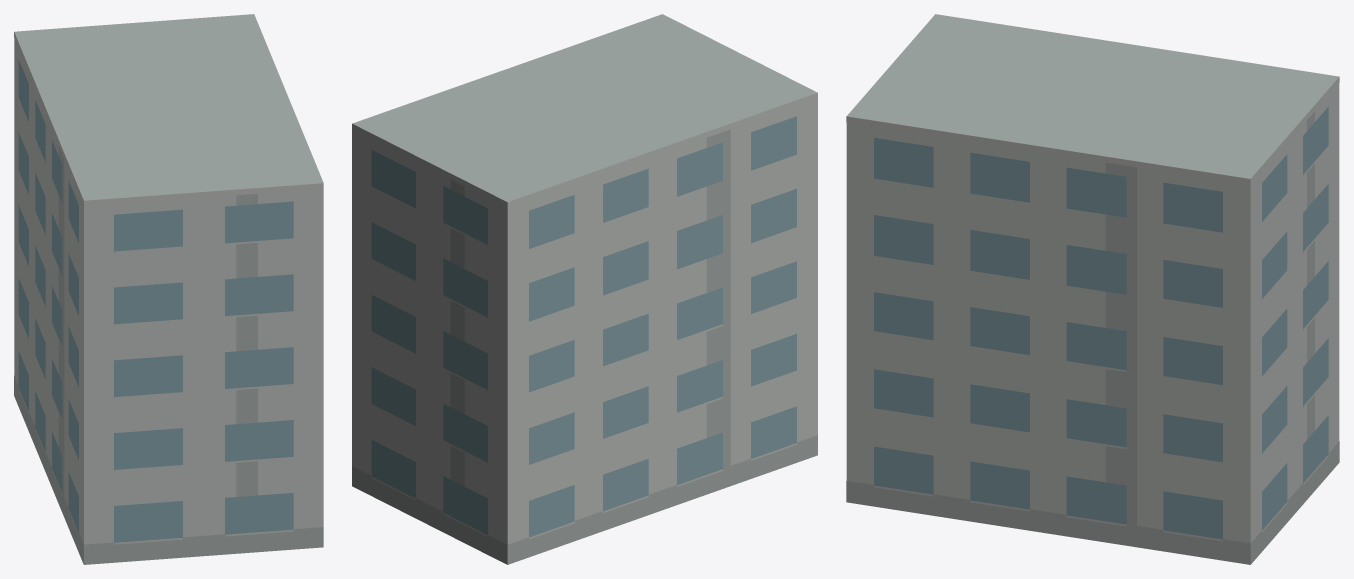
The model's file is residential-e7fd40cf-517d-4d43-8db7-24bfd90b2391.glb.
3 views of the same model, side by side, from view 1: azimuth 30°, elevation 25°; view 2: azimuth 150°, elevation 25°; view 3: azimuth 270°, elevation 25° (orthographic). The views are drawn at different scales.
Visible parts, largest first — view 1: residential-e7fd40cf-517d-4d43-8db7-24bfd90b2391.tmp; view 2: residential-e7fd40cf-517d-4d43-8db7-24bfd90b2391.tmp; view 3: residential-e7fd40cf-517d-4d43-8db7-24bfd90b2391.tmp.
Boxes of the visible parts, left/top/right/bottom form: residential-e7fd40cf-517d-4d43-8db7-24bfd90b2391.tmp: left=14, top=14, right=323, bottom=564; residential-e7fd40cf-517d-4d43-8db7-24bfd90b2391.tmp: left=352, top=14, right=817, bottom=564; residential-e7fd40cf-517d-4d43-8db7-24bfd90b2391.tmp: left=846, top=14, right=1339, bottom=564.
Size of the model in its own units: 13.99 by 15.25 by 17.67.
